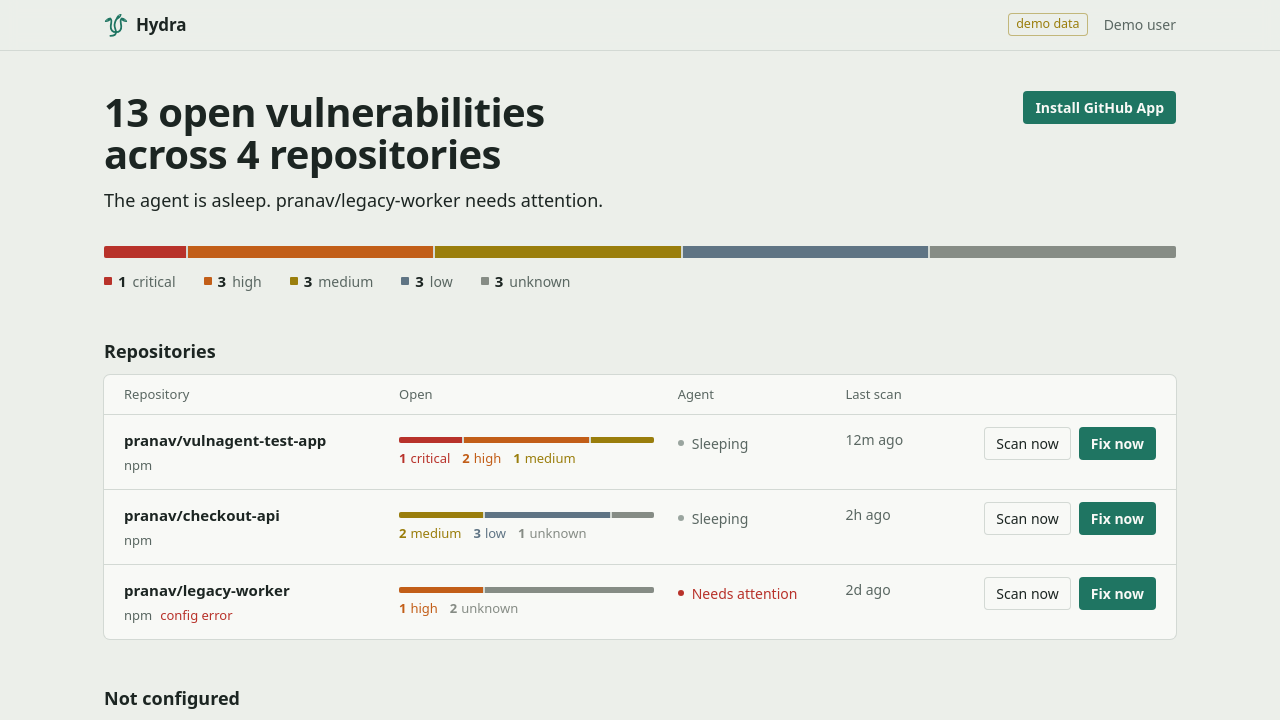
Test case: a repository in detail › lists the vulnerabilities with their advisories
What coordinates should you click on to do the following:
click the link "pranav/vulnagent-test-app"
I would click on:
 (225, 440)
Its box is [124,430,326,450].
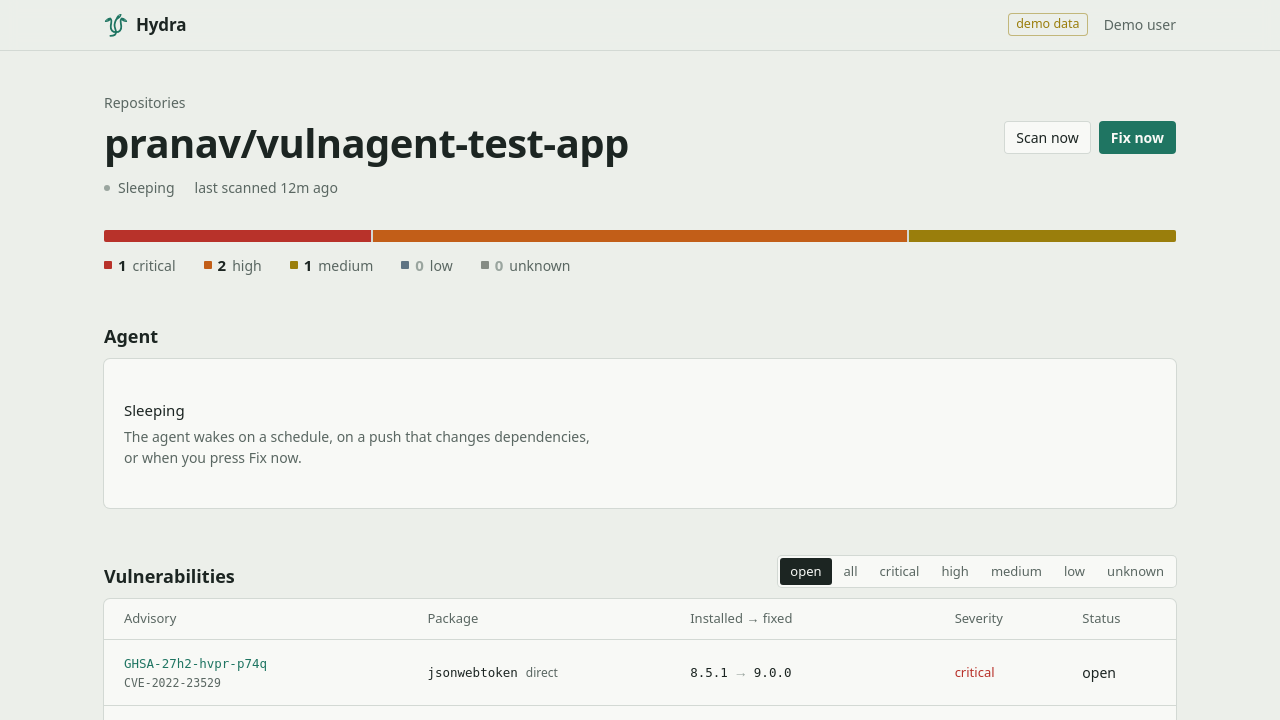
Now the link "GHSA-27h2-hvpr-p74q" is shown, box [124,656,267,670]
